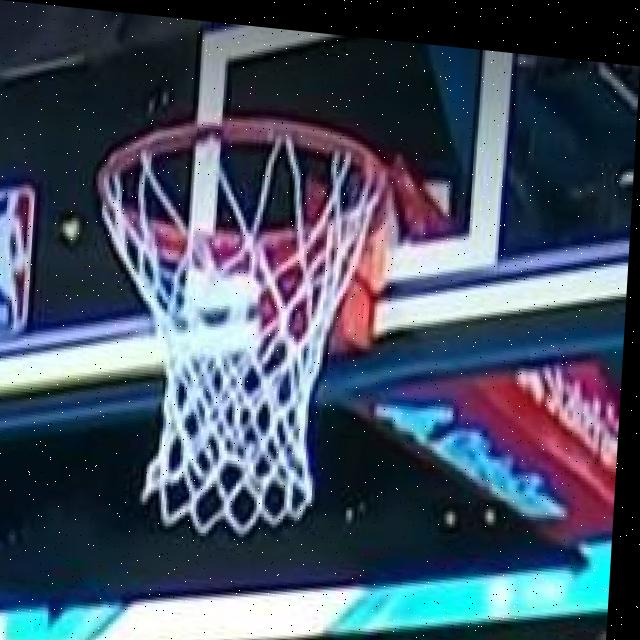hoop: (66, 122, 429, 534)
